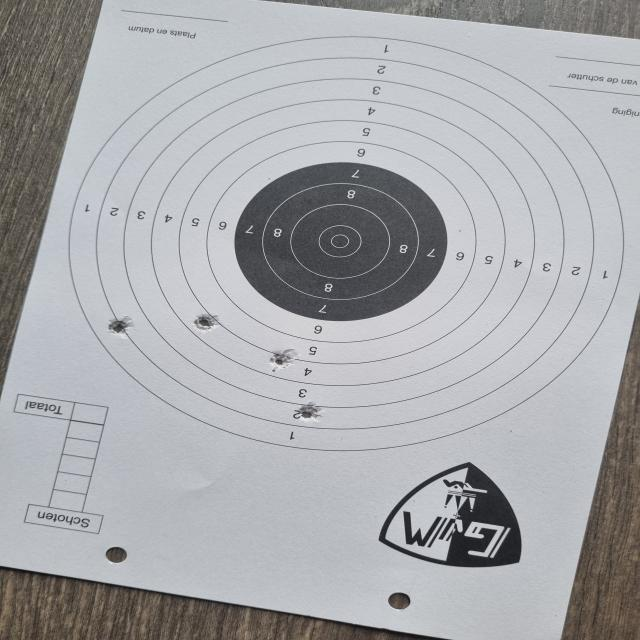2: (106, 315, 132, 334)
3: (297, 403, 323, 420)
5: (269, 349, 300, 368), (193, 314, 219, 330)
Target: (67, 34, 625, 450)
black_contour: (236, 162, 449, 324)
